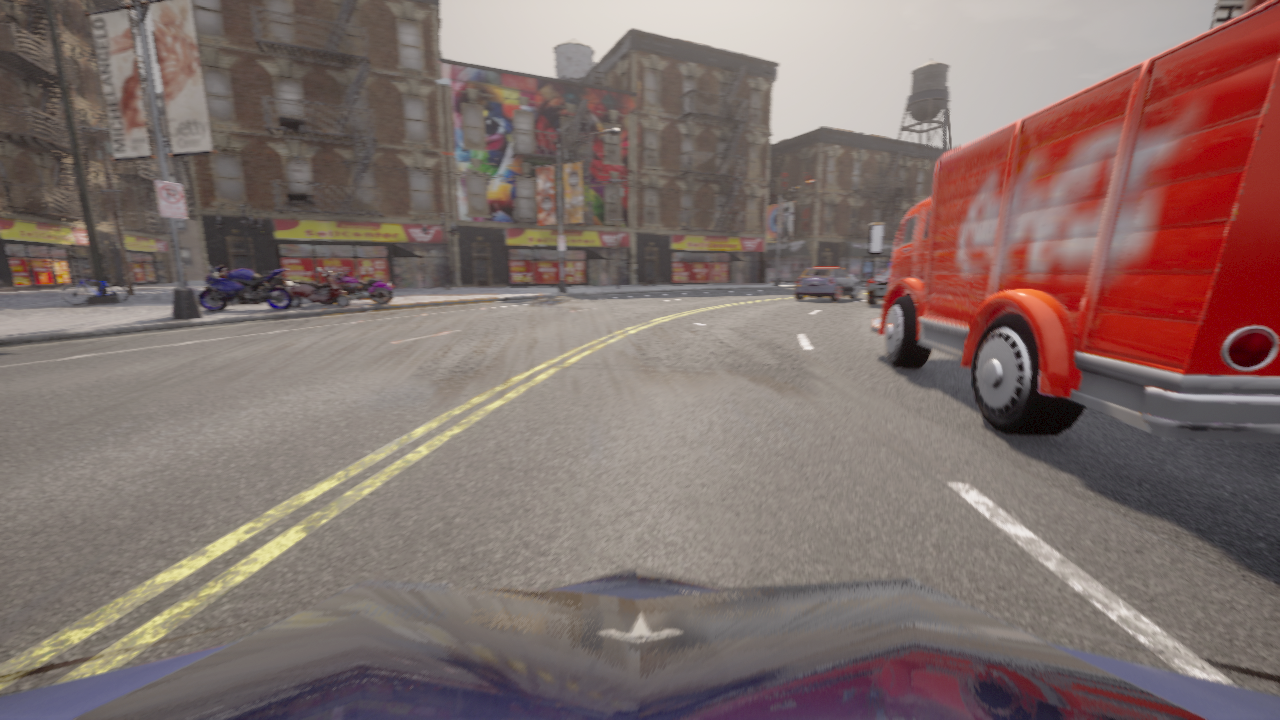cyclist: (0, 569, 1279, 719), (867, 0, 1279, 442), (198, 266, 293, 311), (316, 267, 393, 305), (284, 268, 350, 307), (794, 267, 858, 301), (61, 273, 127, 304), (867, 268, 890, 305)
